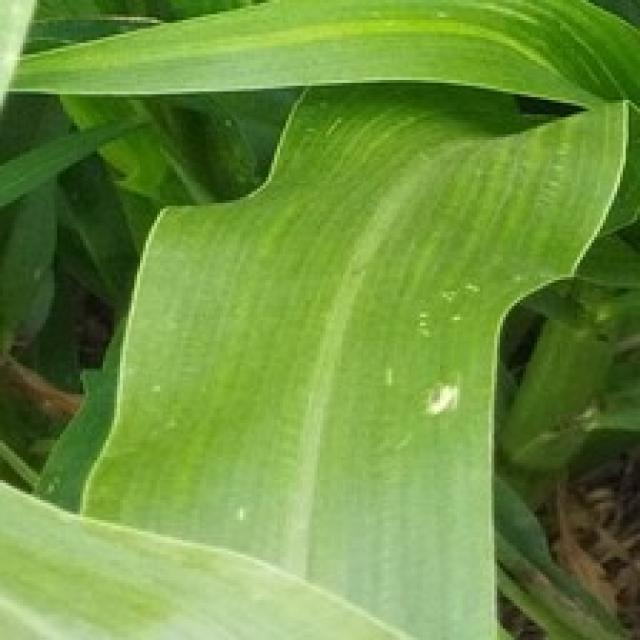Corn: (0, 0, 637, 637), (0, 0, 637, 231), (0, 0, 637, 111)
